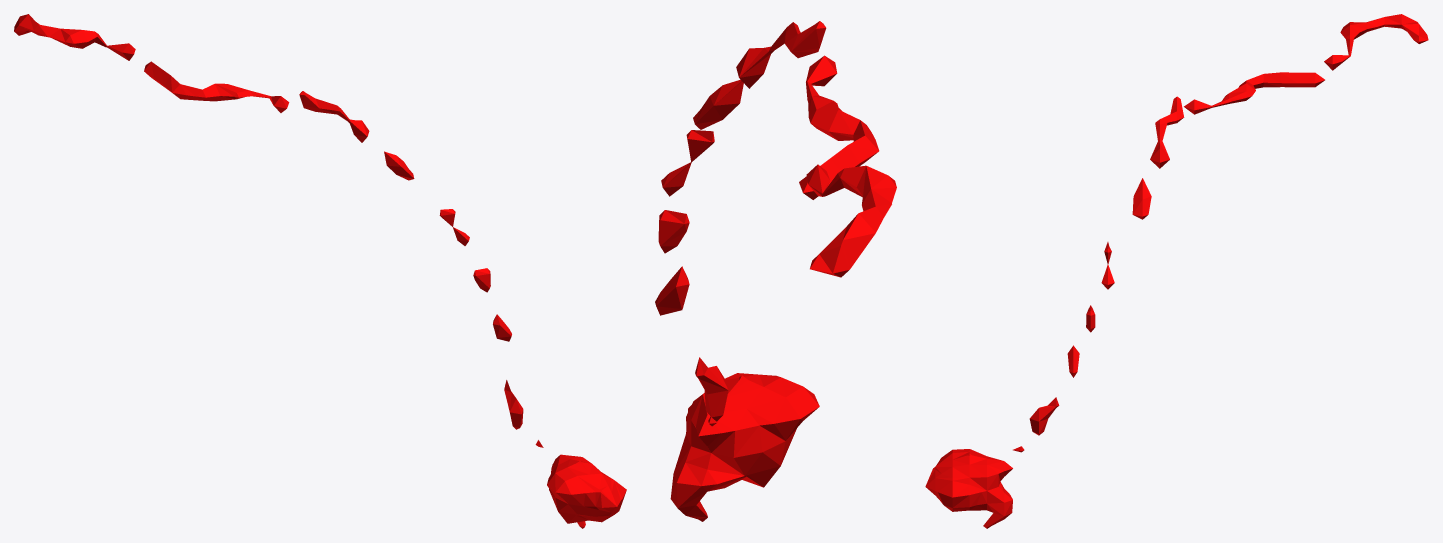
Rendered from hisB_coarse.dae.
The picture shows the model from 3 angles, left to right: view 1: azimuth 30°, elevation 25°; view 2: azimuth 150°, elevation 25°; view 3: azimuth 270°, elevation 25°; orthographic projection. The views are drawn at different scales.
Visible parts, largest first — view 1: hisB; view 2: hisB; view 3: hisB.
Part boxes in pixels (x1,y1,x2,y2): hisB: (14,14,626,528); hisB: (655,21,896,521); hisB: (925,14,1428,528).
Size of the model in its own units: 233 by 264 by 321.
